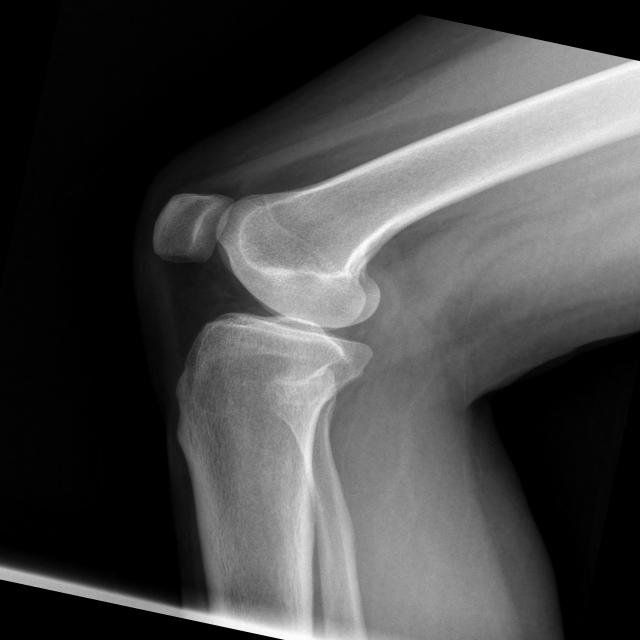Knee: (124, 174, 402, 413)
